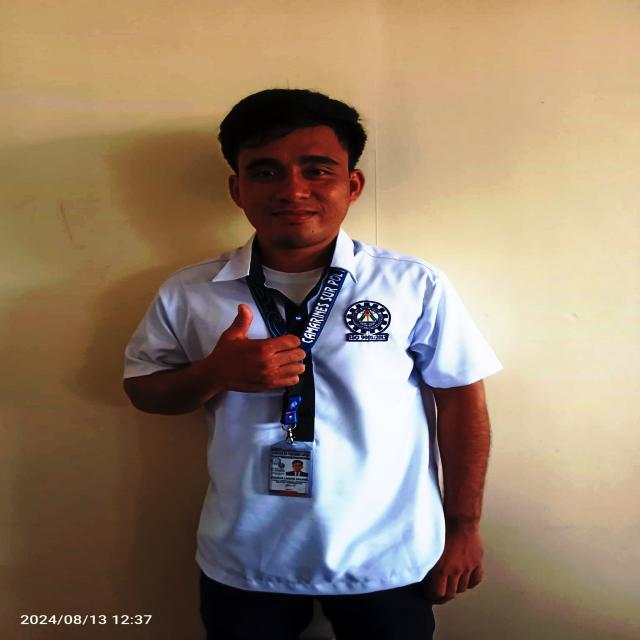thumbs_up: (210, 301, 308, 397), (425, 525, 488, 608)
